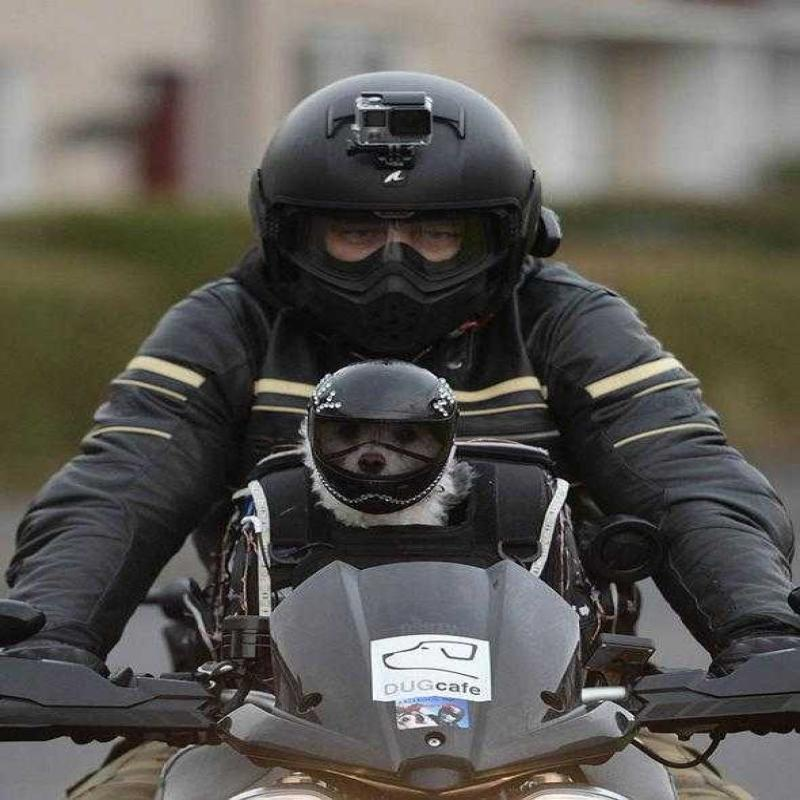bike: (0, 567, 800, 800)
